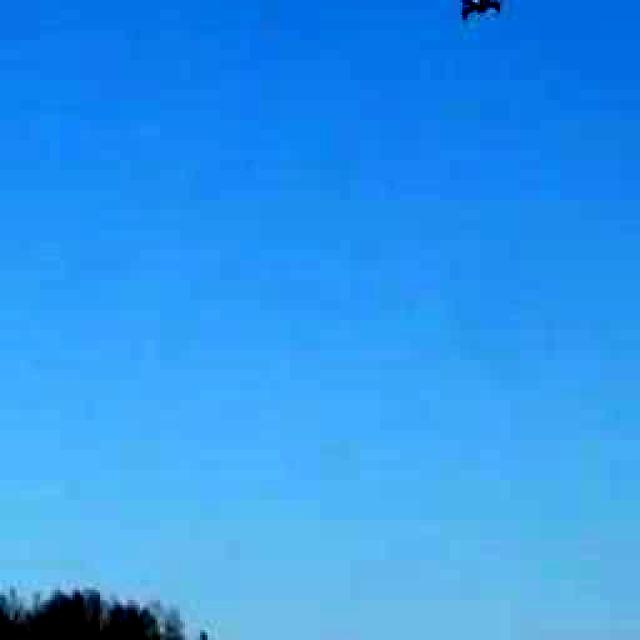bird: (445, 0, 515, 42)
